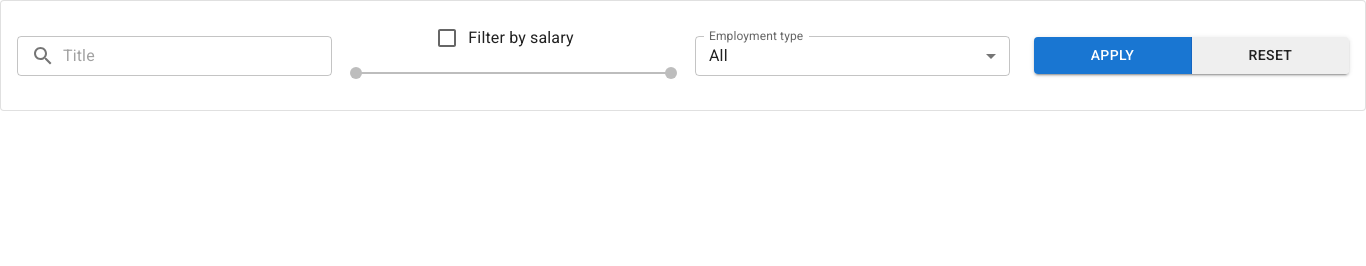
Test case: JobPostFilters › should update 'employmentType' while typing
Click the dropdown at (718, 56), box [709, 46, 728, 65]
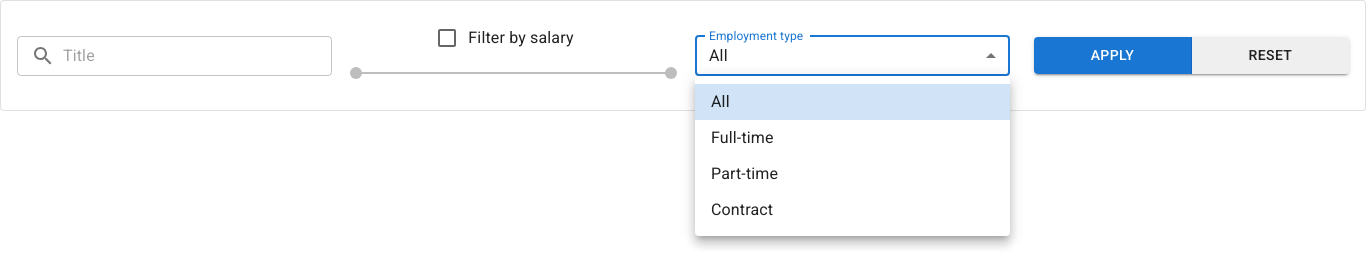
Click the option "Contract" at (742, 210), box [711, 200, 773, 219]
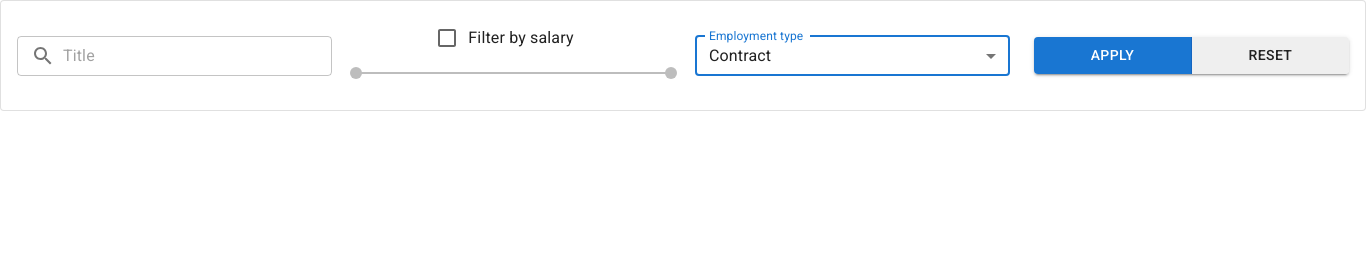
Now the dropdown reads "Contract", box [709, 46, 771, 65]
